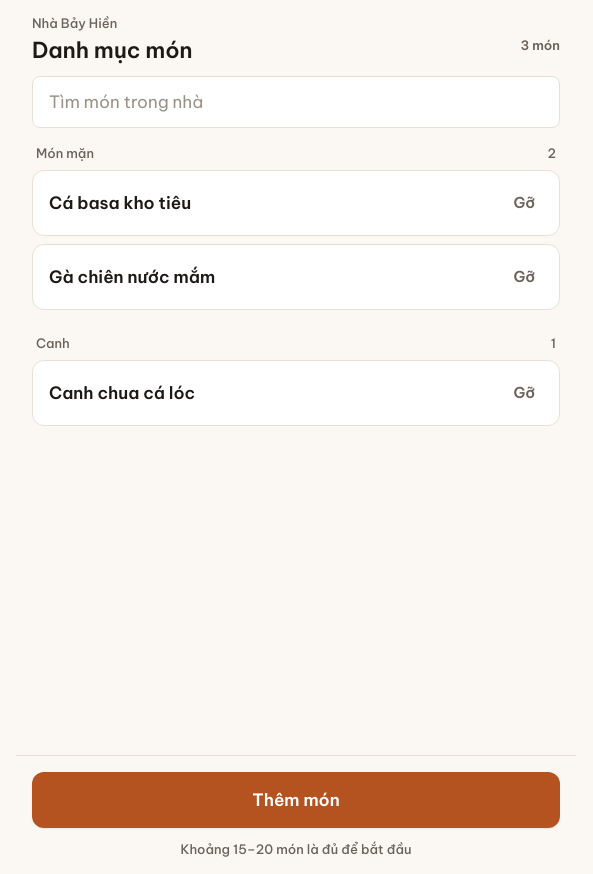
Test case: DishCatalogScreen (S-05) › canEdit = true: có nút "Gỡ", bấm gọi removeAction và hiện toast
Click the 1st button "Gỡ" at [524, 203], box [497, 180, 551, 226]
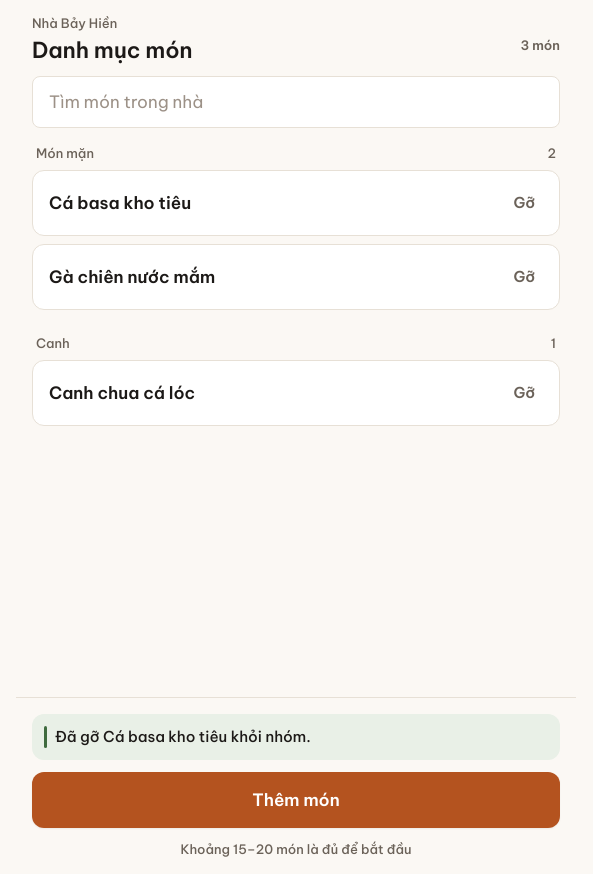
Check: the message "Đã gỡ Cá basa kho tiêu khỏi nhóm." is shown, box [32, 714, 560, 760]
Check: the text "Đã gỡ Cá basa kho tiêu khỏi nhóm." is shown, box [55, 726, 311, 748]
